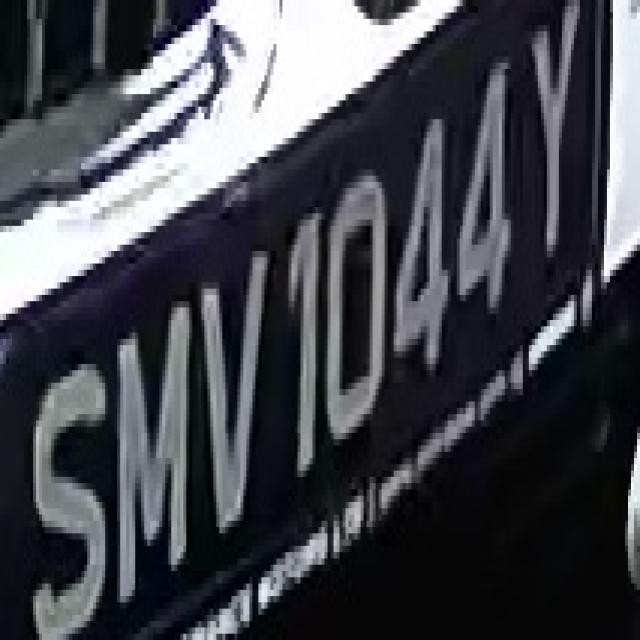0: (328, 163, 390, 439)
1: (288, 176, 328, 502)
4: (382, 107, 456, 389), (454, 82, 532, 326)
M: (108, 314, 195, 596)
S: (27, 357, 108, 640)
V: (198, 245, 270, 546)
Y: (517, 0, 595, 270)
